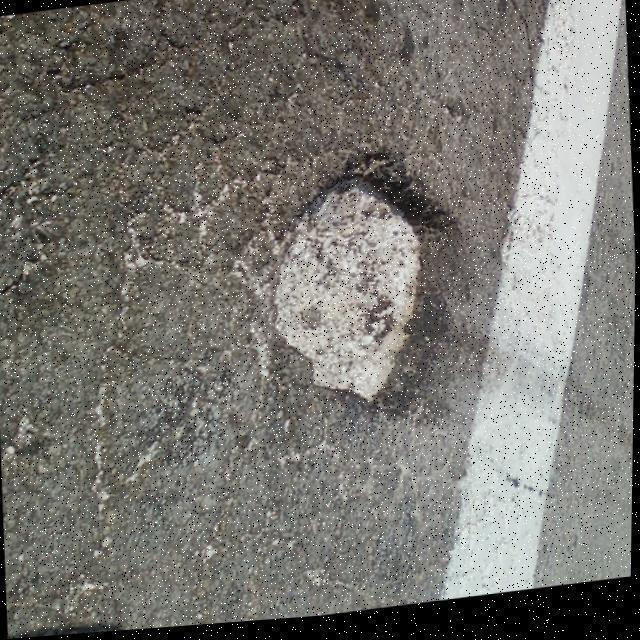Pothole: (259, 142, 467, 419)
